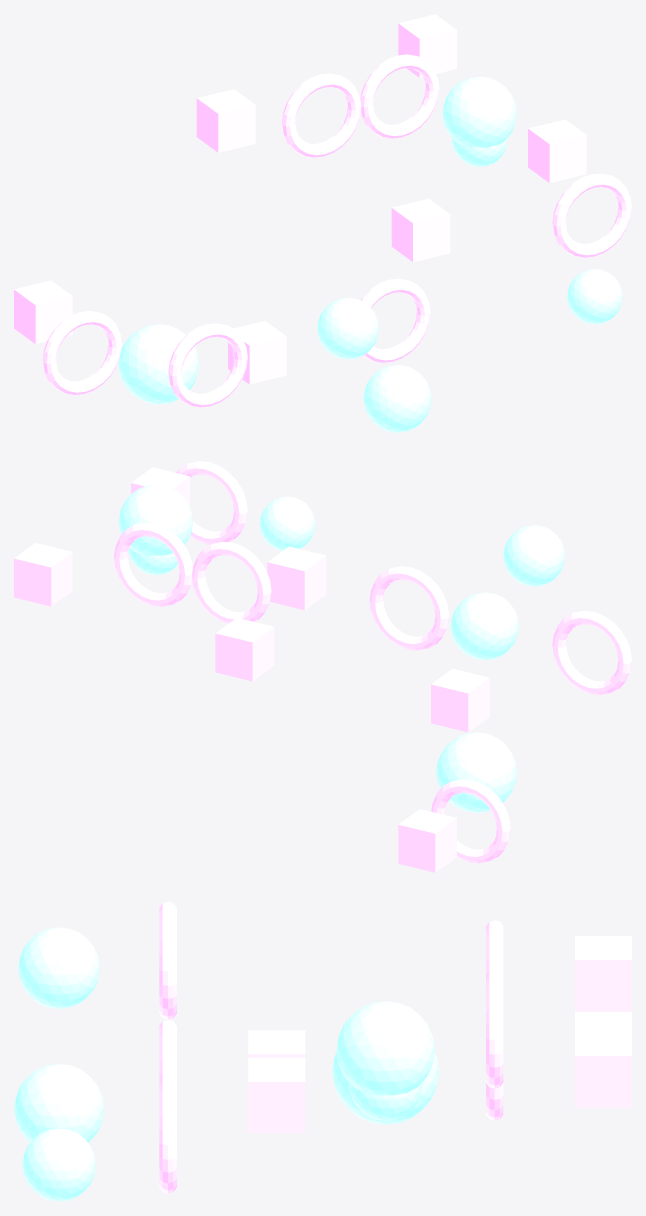
File: living_world.glb
3 views of the same model, one above another, from view 1: azimuth 30°, elevation 25°; view 2: azimuth 150°, elevation 25°; view 3: azimuth 270°, elevation 25° (orthographic). The views are drawn at different scales.
Parts seen in each view (by area): view 1: world; view 2: world; view 3: world.
Part boxes in pixels (x1,y1,x2,y2): world: (14, 14, 631, 432); world: (14, 461, 631, 872); world: (14, 901, 631, 1201).
Size of the model in its own units: 4.23 by 2.27 by 3.69.
